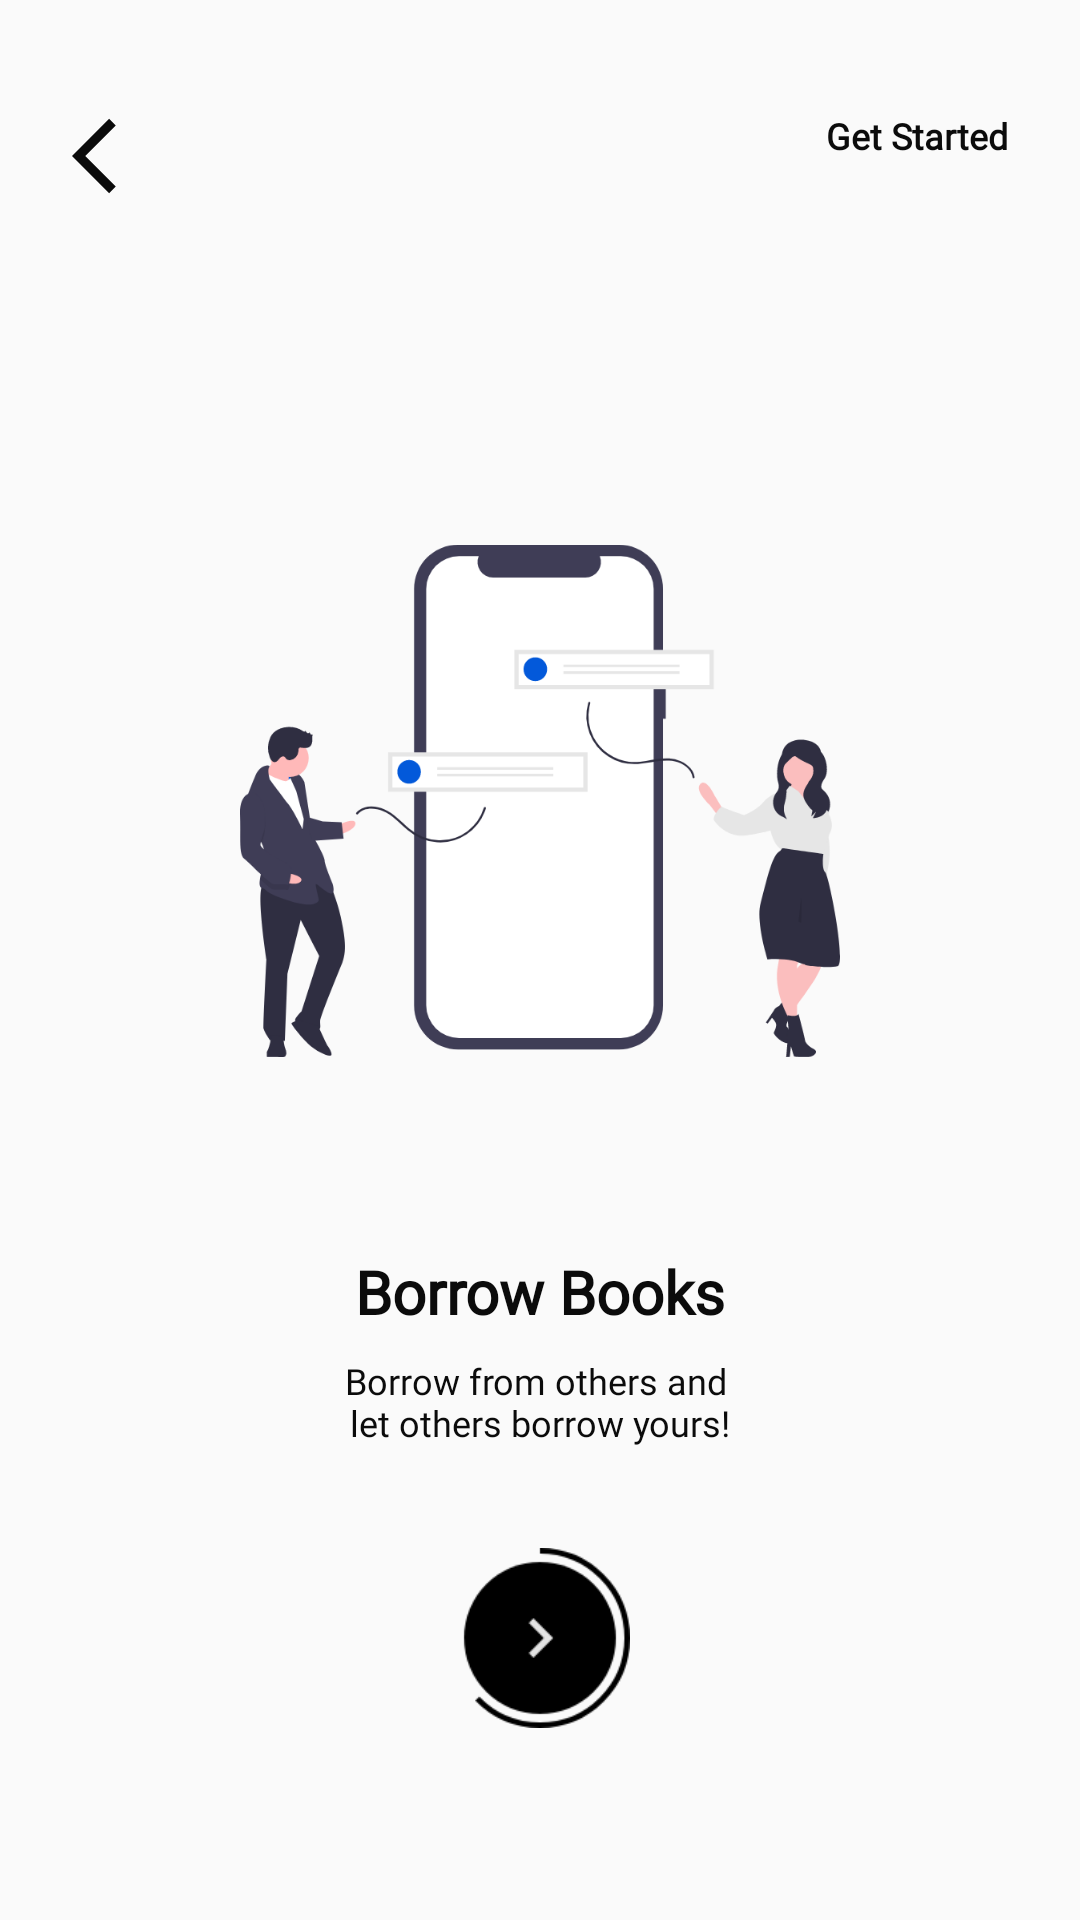

Named icons in this screenshot (1080×1920) and their centers, point (x, y):
Back: point (94, 156)
Next: point (546, 1638)
